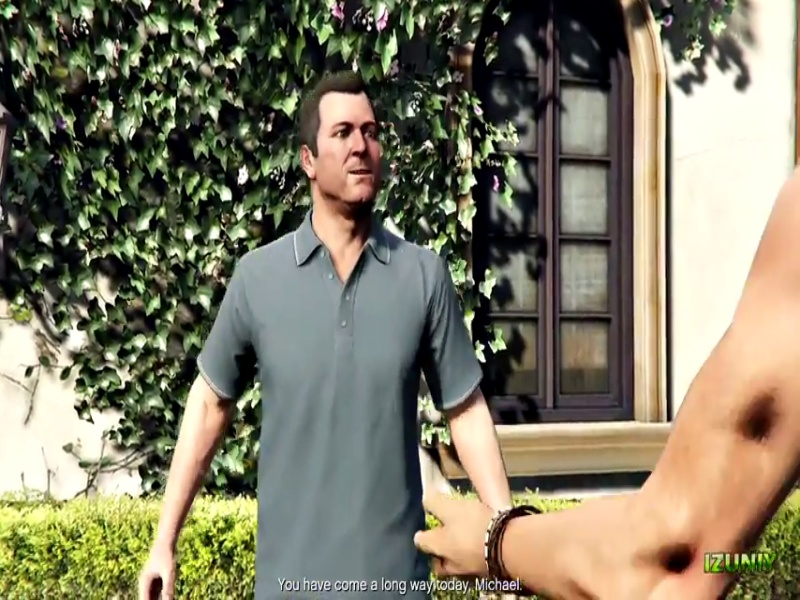human: (131, 85, 527, 600)
